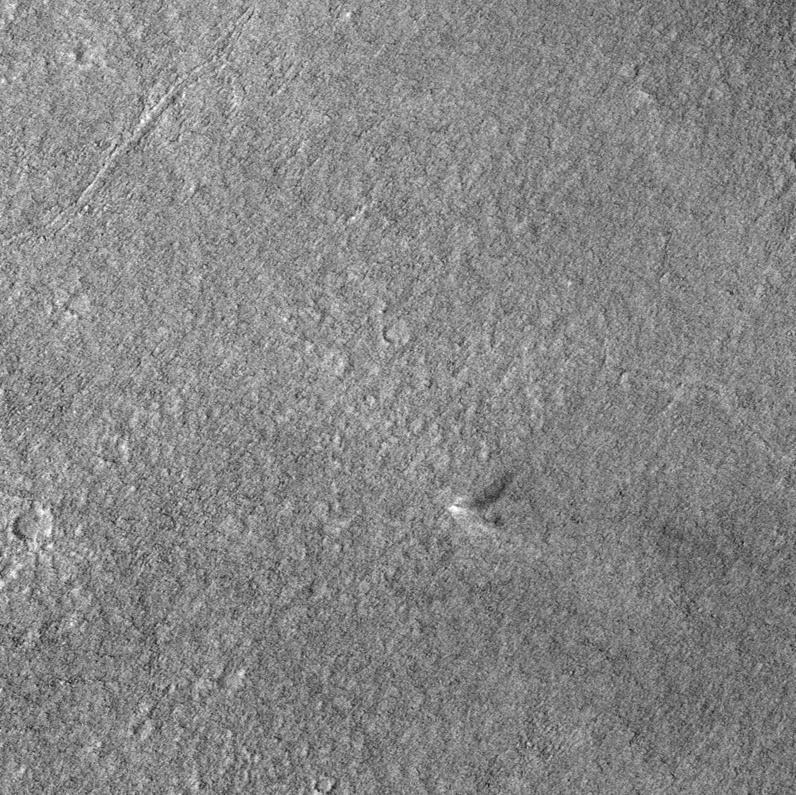dust_devil: (446, 471, 516, 534)
